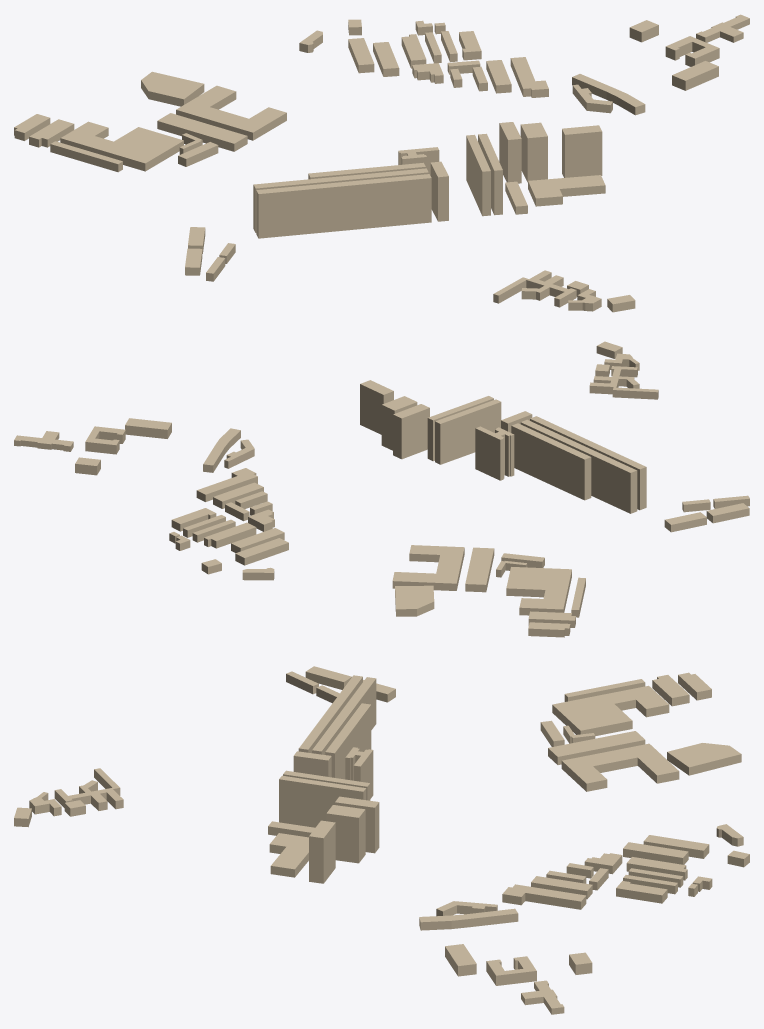
The model's file is -15_7-estimated-coarse.glb.
The picture shows the model from 3 angles, top to bottom: view 1: azimuth 30°, elevation 25°; view 2: azimuth 150°, elevation 25°; view 3: azimuth 270°, elevation 25°; orthographic projection. The views are drawn at different scales.
Size of the model in its own units: 1057 by 66 by 966.
